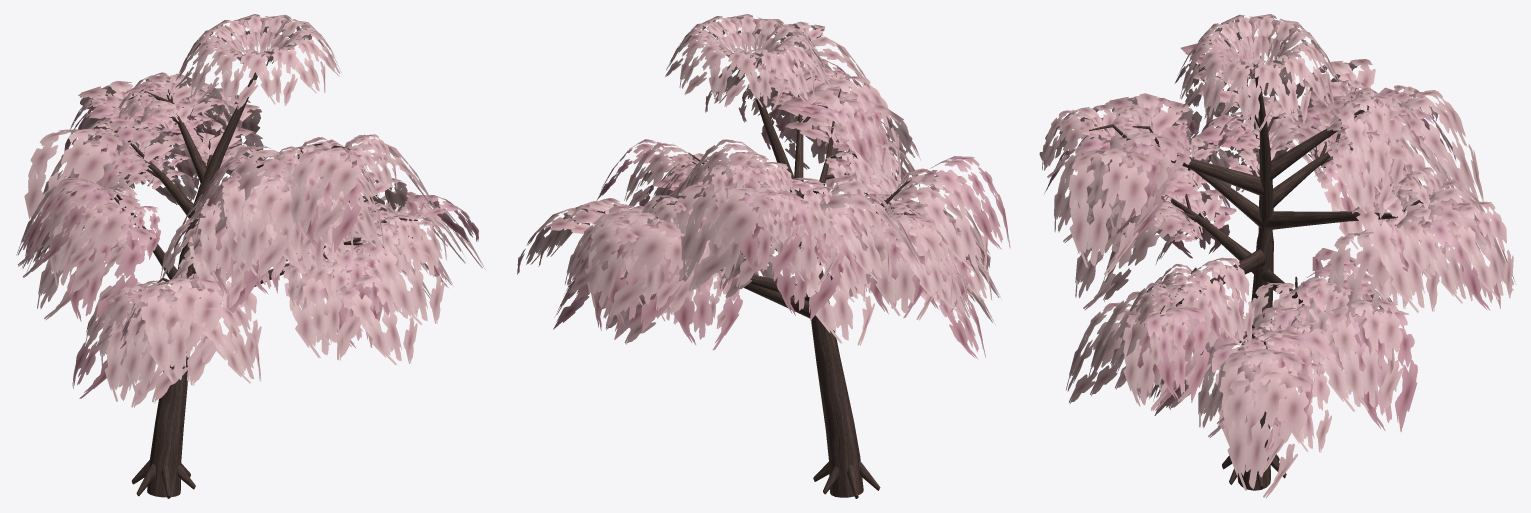
File: sakura_tree_leaning.glb
3 views of the same model, side by side, from view 1: azimuth 30°, elevation 25°; view 2: azimuth 150°, elevation 25°; view 3: azimuth 270°, elevation 25° (orthographic). The views are drawn at different scales.
Visible parts, largest first — view 1: sakura_tree_leaning; view 2: sakura_tree_leaning; view 3: sakura_tree_leaning.
Part boxes in pixels (x1,y1,x2,y2): sakura_tree_leaning: (16,14,485,498); sakura_tree_leaning: (517,14,1010,498); sakura_tree_leaning: (1039,14,1516,498).
Bounding box in the file's own units: 7 × 6.2 × 5.4.
2 materials, 2 textured.
